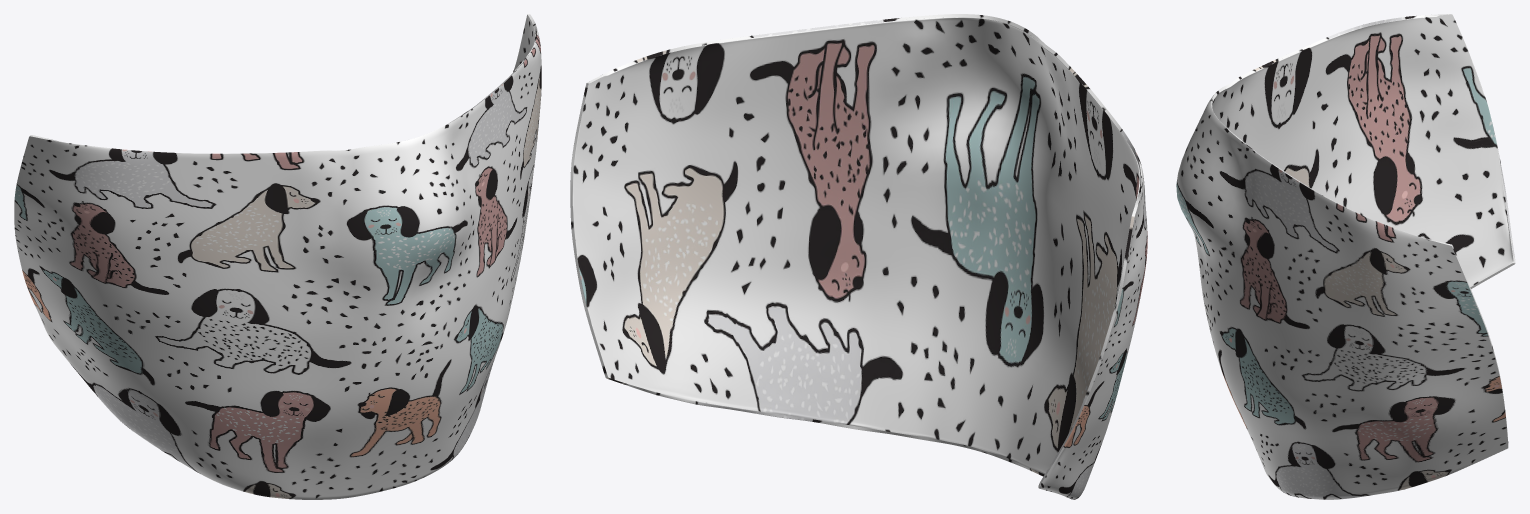
File: facemask.gltf
3 renders of one model, left to right at view 1: azimuth 30°, elevation 25°; view 2: azimuth 150°, elevation 25°; view 3: azimuth 270°, elevation 25°, orthographic. The views are drawn at different scales.
Parts seen in each view (by area): view 1: face_mask_STMJIS8; view 2: face_mask_STMJIS8; view 3: face_mask_STMJIS8.
Boxes of the visible parts, x1,y1,x2,y2 form: face_mask_STMJIS8: [14, 14, 541, 499]; face_mask_STMJIS8: [570, 14, 1147, 499]; face_mask_STMJIS8: [1176, 14, 1515, 499].
Size of the model in its own units: 1.71 by 1.21 by 1.05.
1 material, 1 textured.
